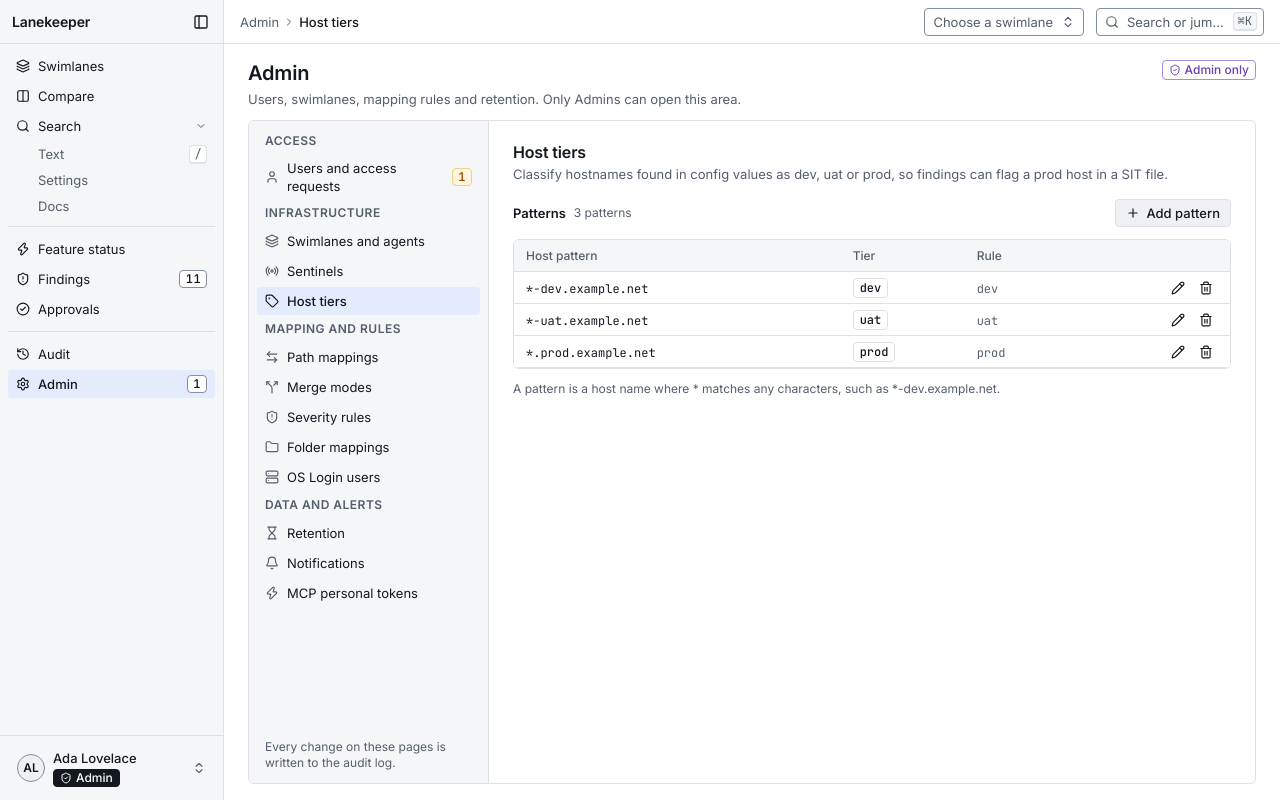
Test: adding, changing and deleting › changes the tier of a pattern
Expected: the heading "Admin" is shown, [248,61,309,85]
Click the button named "Edit pattern dev": {"x": 1178, "y": 288} [1166,276,1190,300]
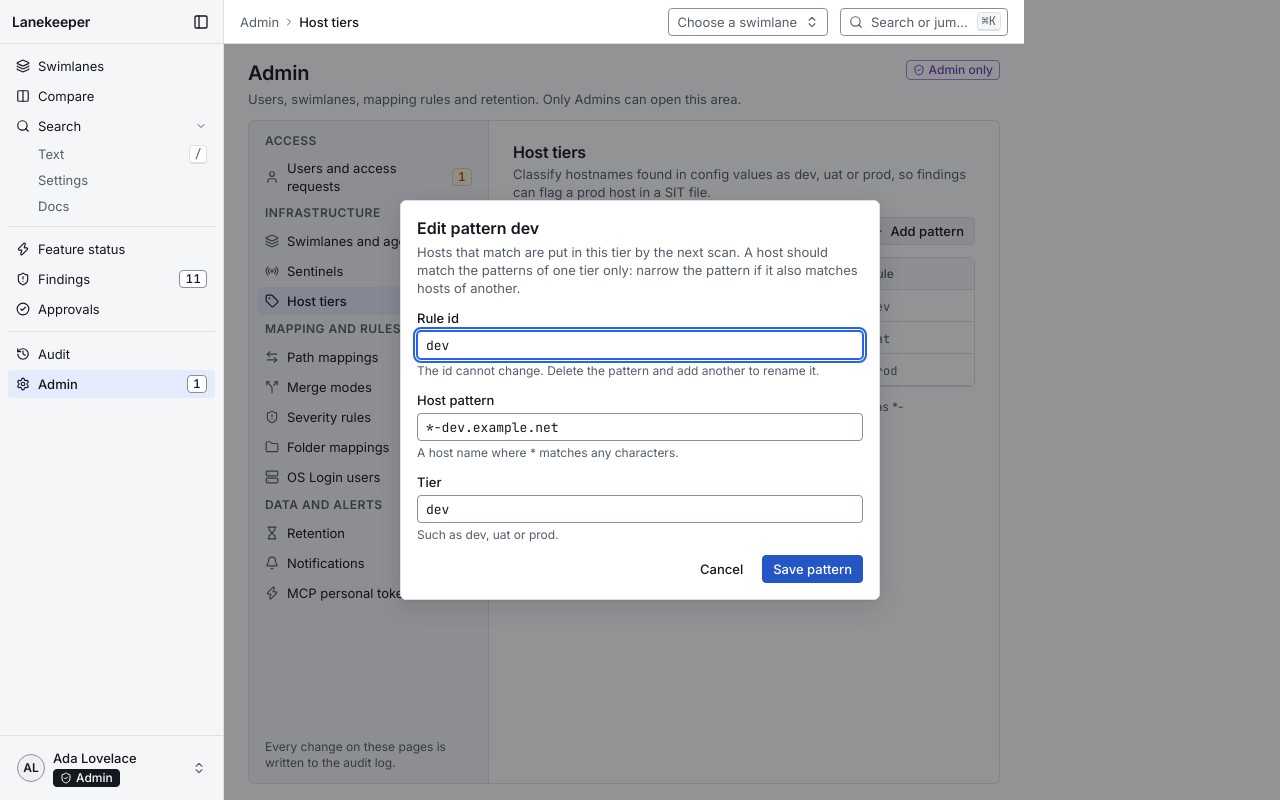
In the field labelled "Tier": {"x": 640, "y": 509} [417,495,863,523], type "uat"
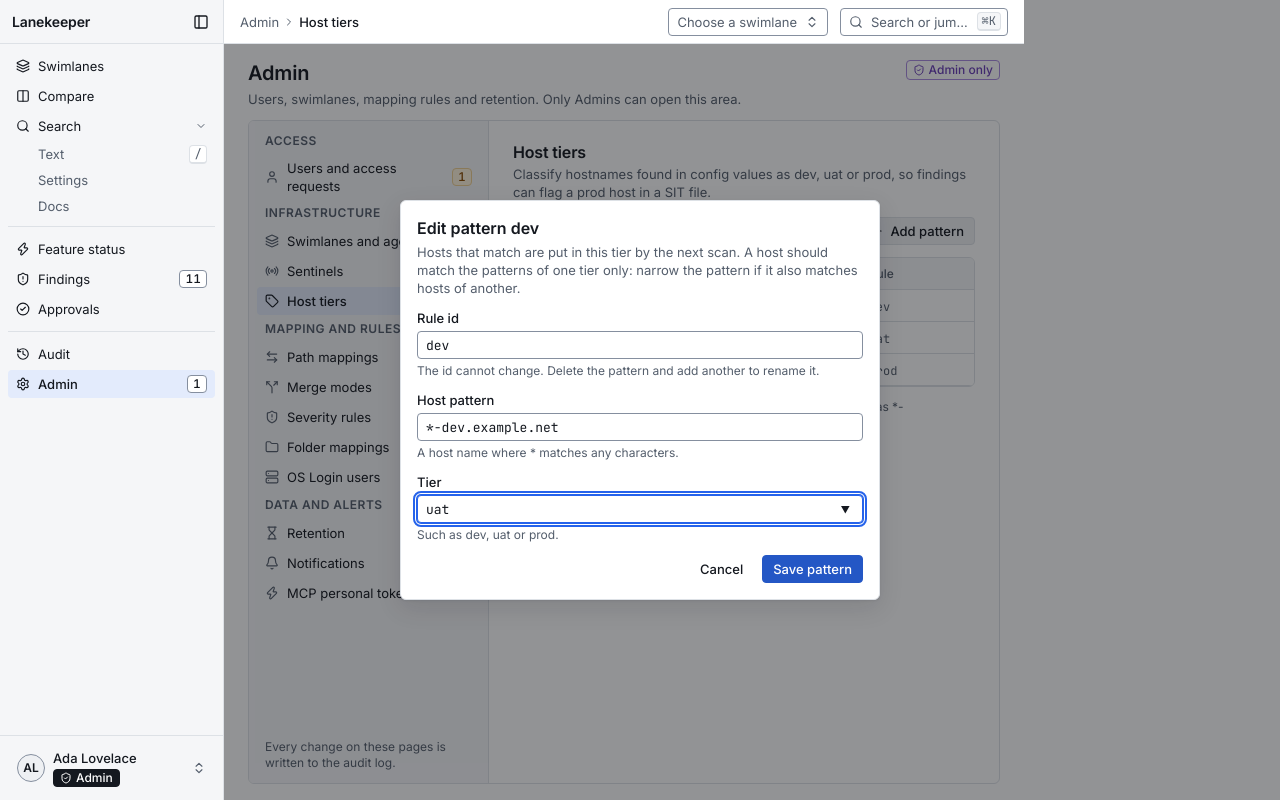
Click the button "Save pattern": {"x": 813, "y": 569} [762,555,863,583]
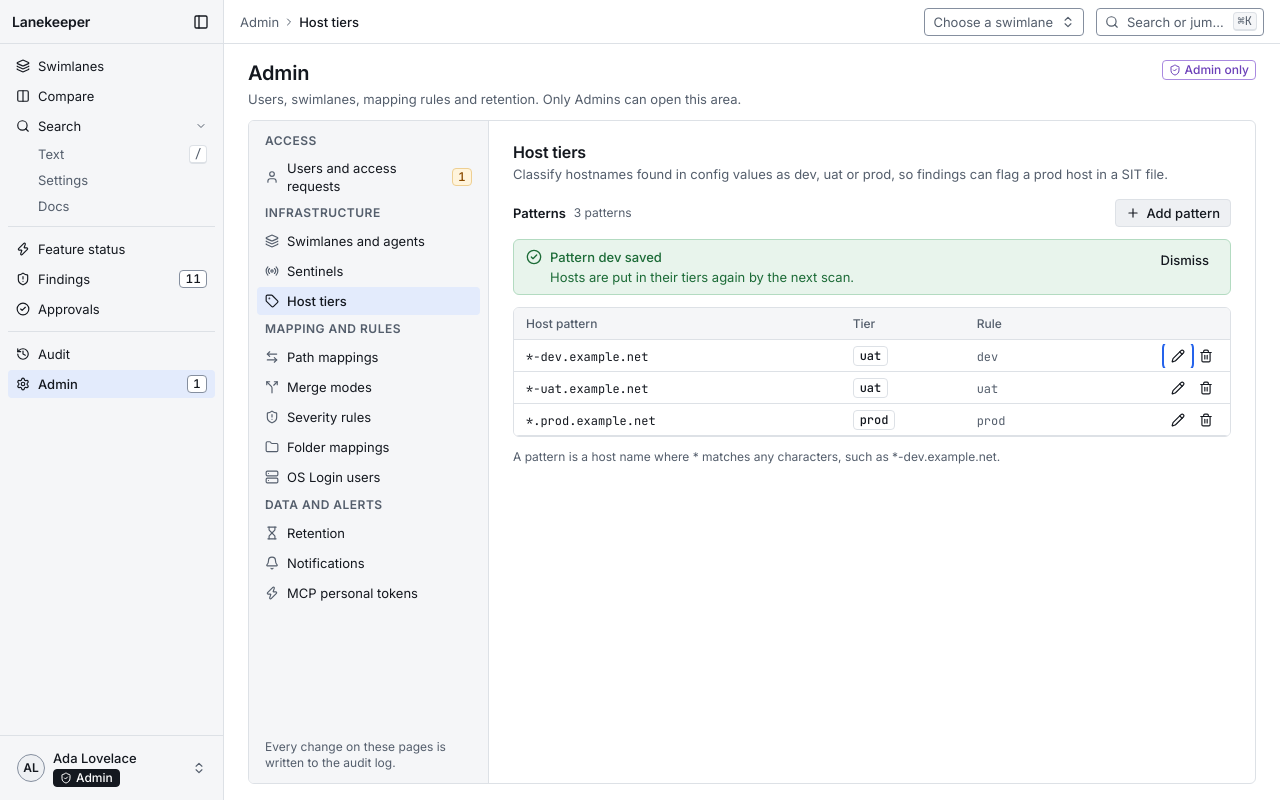
Expected: the dialog is gone
